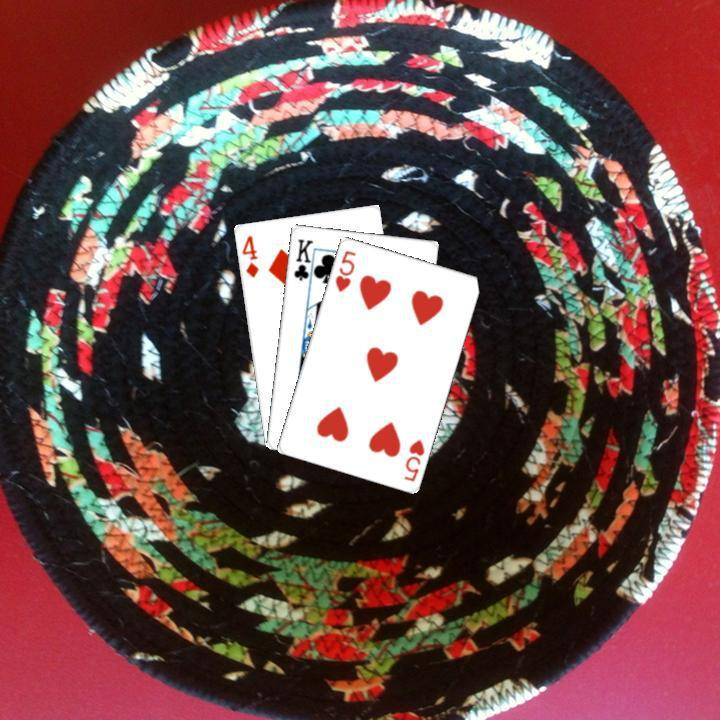4: (237, 231, 260, 279)
5: (330, 245, 358, 294), (399, 434, 426, 483)
K: (289, 234, 318, 288)
